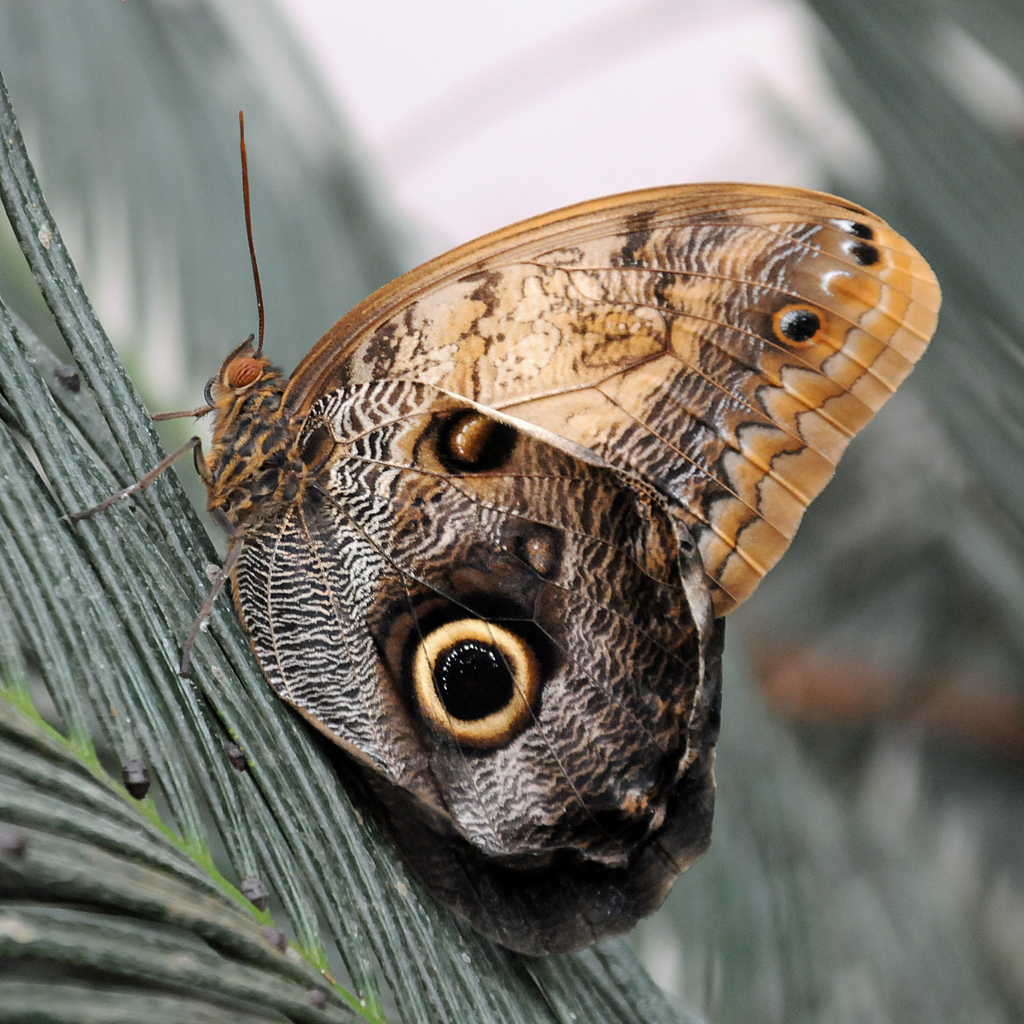Butterfly: (163, 138, 943, 930)
